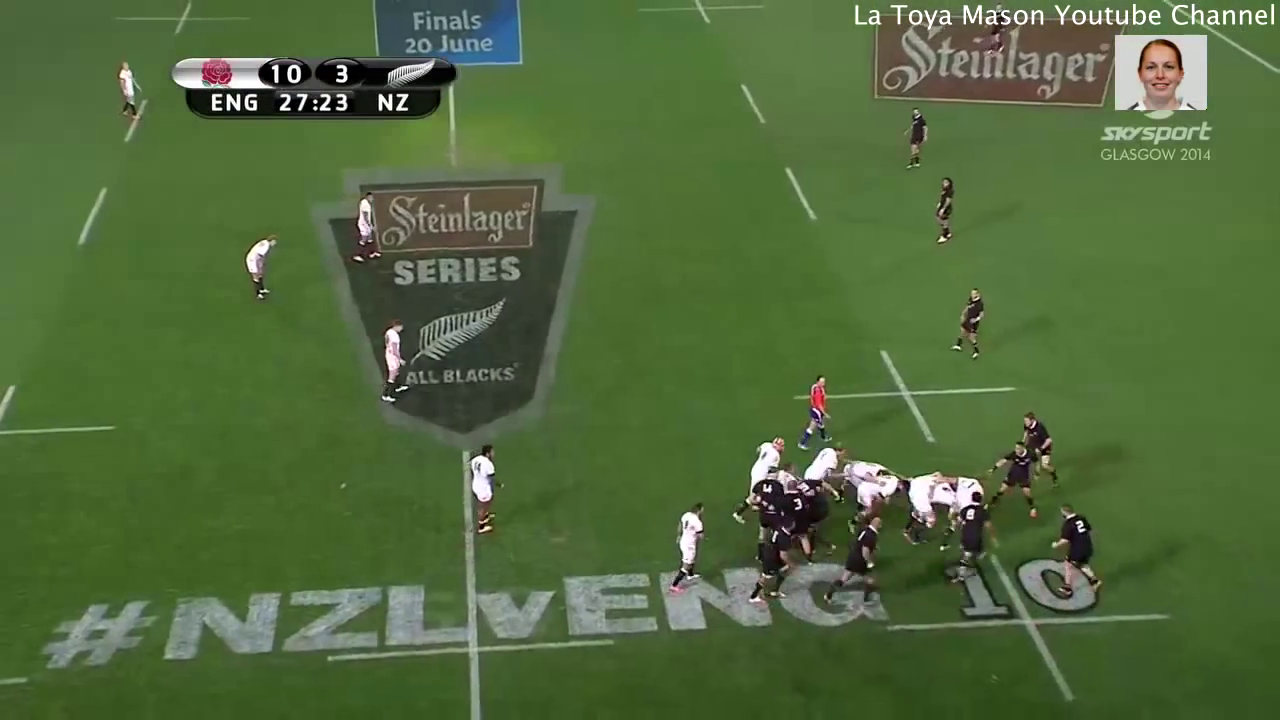10_metre: (883, 545, 1177, 706), (791, 345, 1019, 446), (1, 382, 117, 474), (640, 1, 756, 24)
maul: (834, 432, 1021, 580)
player: (821, 517, 889, 605), (743, 518, 797, 608), (983, 442, 1045, 520), (731, 435, 788, 516), (462, 437, 505, 541), (1053, 500, 1107, 576), (668, 496, 705, 600), (1019, 409, 1069, 485), (944, 492, 990, 574), (237, 228, 282, 306), (377, 317, 417, 402), (902, 472, 946, 548), (354, 188, 391, 272), (951, 280, 985, 361), (751, 468, 781, 557), (798, 368, 832, 445), (779, 480, 812, 559), (850, 477, 910, 518), (933, 167, 958, 250), (115, 64, 147, 127), (804, 441, 848, 481), (907, 100, 929, 176), (943, 471, 992, 503), (842, 455, 890, 480), (986, 22, 1010, 51)
